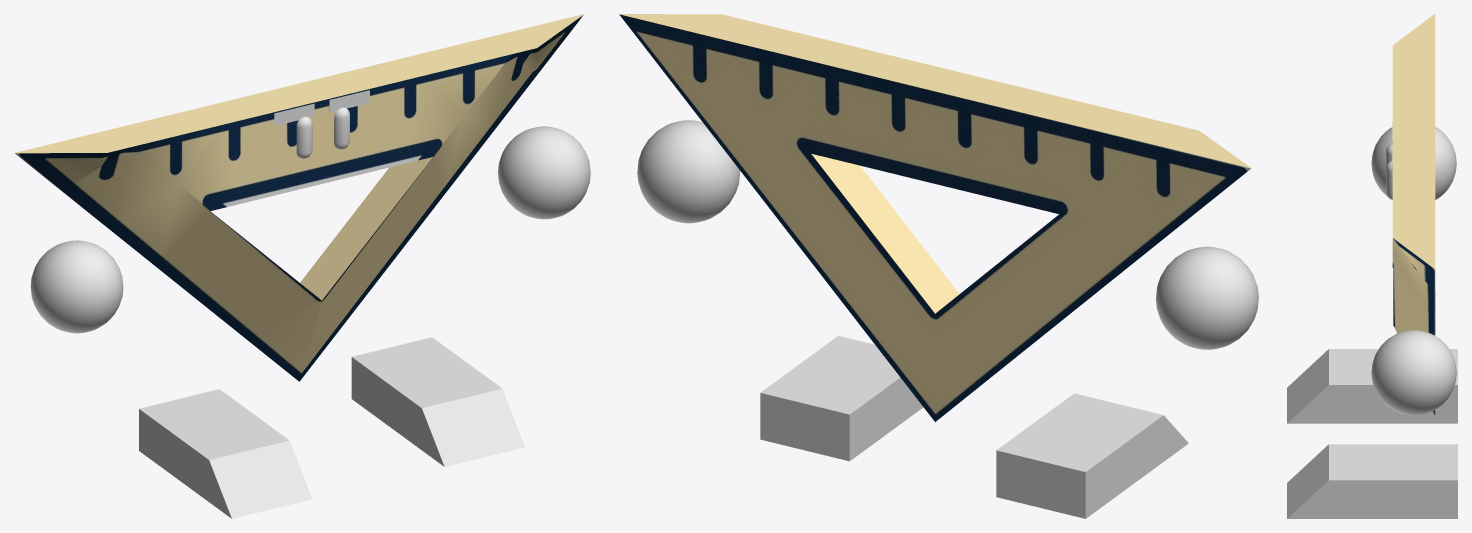
The model's file is 三角尺人2.fbx.
3 renders of one model, left to right at view 1: azimuth 30°, elevation 25°; view 2: azimuth 150°, elevation 25°; view 3: azimuth 270°, elevation 25°, orthographic. The views are drawn at different scales.
Visible parts, largest first — view 1: Box001, 右腳 (×2), 左腳, 右手, 右眼; view 2: Box001, 右腳 (×2), 左腳, 右手; view 3: Box001, 右腳 (×2), 左腳, 右手, 左眼.
Boxes of the visible parts, bbox=[...] form: Box001: bbox=[14, 14, 583, 381]; 右腳 (×2): bbox=[139, 126, 590, 518]; 左腳: bbox=[351, 337, 524, 466]; 右手: bbox=[30, 240, 123, 333]; 右眼: bbox=[296, 116, 312, 158]; Box001: bbox=[619, 14, 1251, 421]; 右腳 (×2): bbox=[637, 120, 1188, 518]; 左腳: bbox=[760, 336, 923, 461]; 右手: bbox=[1156, 246, 1258, 349]; Box001: bbox=[1392, 14, 1435, 414]; 右腳 (×2): bbox=[1287, 330, 1457, 423]; 左腳: bbox=[1287, 444, 1457, 518]; 右手: bbox=[1371, 127, 1456, 199]; 左眼: bbox=[1386, 160, 1392, 199].
Bounding box in the file's own units: 70.71 × 40.36 × 20.
Materials: 1 (1 with a texture image).
